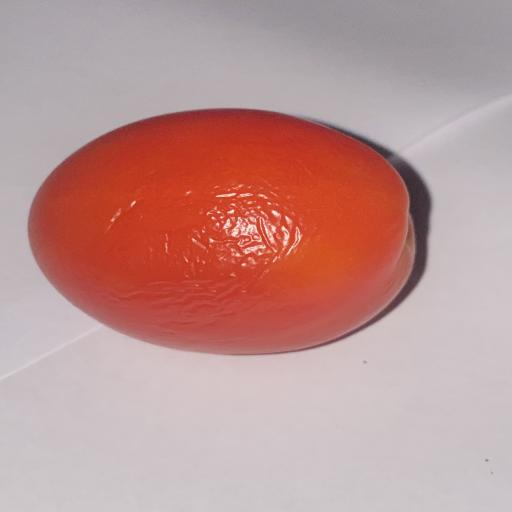spoiled: (29, 109, 414, 354)
